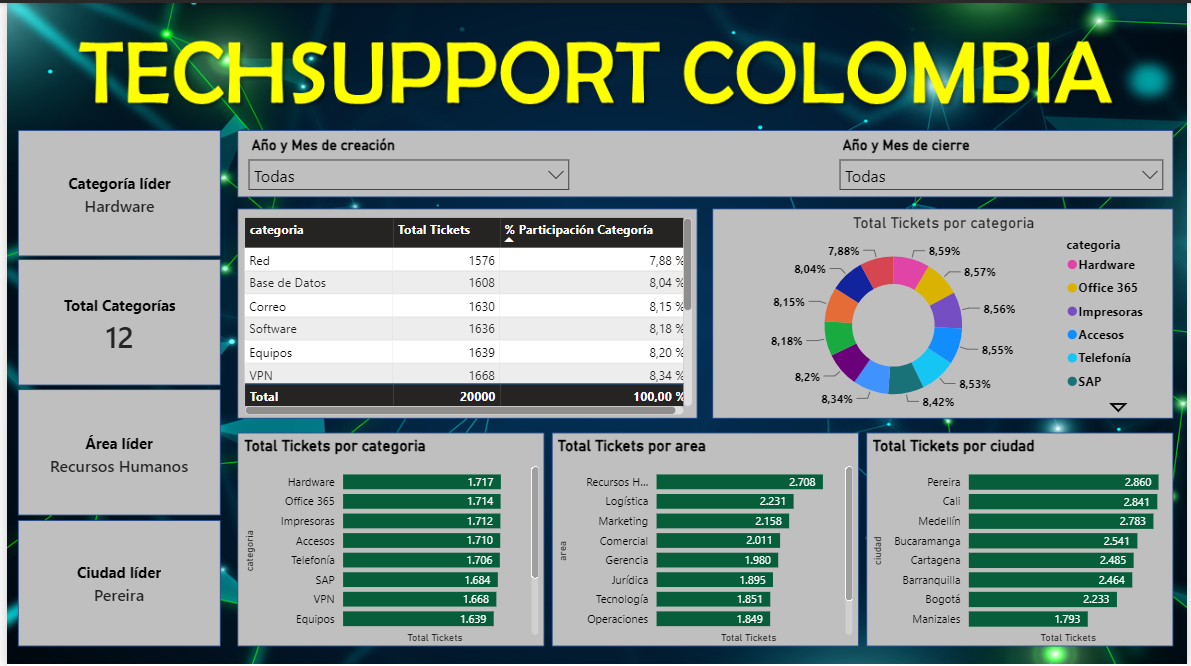

The page's visual inventory and layout, read from the dashboard file:
{"tool":"powerbi","page":{"name":"Operación de Tickets","canvas":[1280,720],"ordinal":1},"visuals":[{"type":"cardVisual","fields":{"Data":["Medidas.Categoría líder"]},"box":[12.7,141.6,218.1,133],"z":0},{"type":"cardVisual","fields":{"Data":["Medidas.Ciudad líder"]},"box":[12.7,564.1,217.9,131.5],"z":1000},{"type":"cardVisual","fields":{"Data":["Medidas.Área líder"]},"box":[12.7,423.8,218,131.8],"z":2000},{"type":"cardVisual","fields":{"Data":["Medidas.Total Categorías"]},"box":[12.7,283.2,218,132],"z":3000},{"type":"clusteredBarChart","fields":{"Category":["tickets.categoria"],"Y":["Medidas.Total Tickets"]},"box":[252.1,469.9,329.3,228.8],"z":4000},{"type":"clusteredBarChart","fields":{"Category":["usuarios.area"],"Y":["Medidas.Total Tickets"]},"box":[592.7,469.9,329.8,228.8],"z":5000},{"type":"clusteredBarChart","fields":{"Category":["usuarios.ciudad"],"Y":["Medidas.Total Tickets"]},"box":[933.9,469.9,329.8,228.8],"z":6000},{"type":"donutChart","fields":{"Category":["tickets.categoria"],"Y":["Medidas.Total Tickets"]},"box":[767.6,227.7,496.1,223.6],"z":7000},{"type":"tableEx","fields":{"Values":["tickets.categoria","Medidas.Total Tickets","Medidas.% Participación Categoría"]},"box":[252.1,227.7,495.3,223.6],"z":8000},{"type":"slicer","fields":{"Values":["tickets.Mes_año_cierre"]},"box":[893,139.9,370.9,68.3],"z":9000},{"type":"slicer","fields":{"Values":["tickets.Año_Mes_creacion"]},"box":[252.1,139.9,367.6,68.3],"z":10000}]}

Visuals, with their boxes in screenshot pixels (x1, y1, x2, y2), scaled from the page's 1280x720 canvas onto the 1191x666 screenshot:
cardVisual - Medidas.Categoría líder: [12,131,215,254]
cardVisual - Medidas.Ciudad líder: [12,522,215,643]
cardVisual - Medidas.Área líder: [12,392,215,514]
cardVisual - Medidas.Total Categorías: [12,262,215,384]
clusteredBarChart - tickets.categoria x Medidas.Total Tickets: [235,435,541,646]
clusteredBarChart - usuarios.area x Medidas.Total Tickets: [551,435,858,646]
clusteredBarChart - usuarios.ciudad x Medidas.Total Tickets: [869,435,1176,646]
donutChart - tickets.categoria x Medidas.Total Tickets: [714,211,1176,417]
tableEx - tickets.categoria x Medidas.Total Tickets: [235,211,695,417]
slicer - tickets.Mes_año_cierre: [831,129,1176,193]
slicer - tickets.Año_Mes_creacion: [235,129,577,193]
